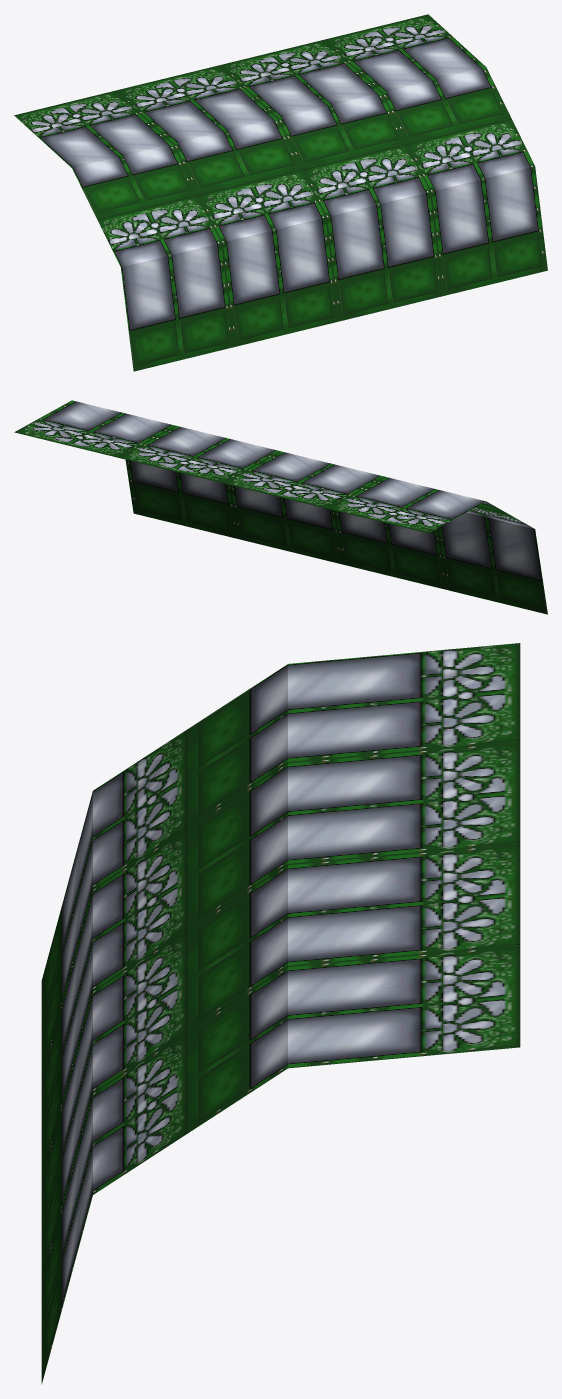
Rendered from Dach_HalbtonneBreit [GrünesGlas]_262.glb.
3 views of the same model, one above another, from view 1: azimuth 30°, elevation 25°; view 2: azimuth 150°, elevation 25°; view 3: azimuth 270°, elevation 25° (orthographic). The views are drawn at different scales.
Parts seen in each view (by area): view 1: polySurfaceShape1072; view 2: polySurfaceShape1072; view 3: polySurfaceShape1072.
Boxes of the visible parts, <box> form: polySurfaceShape1072: <box>14,14,547,371</box>; polySurfaceShape1072: <box>14,400,547,614</box>; polySurfaceShape1072: <box>41,643,520,1384</box>.
Size of the model in its own units: 1 by 0.3891 by 0.5.
Materials: 1 (1 with a texture image).
